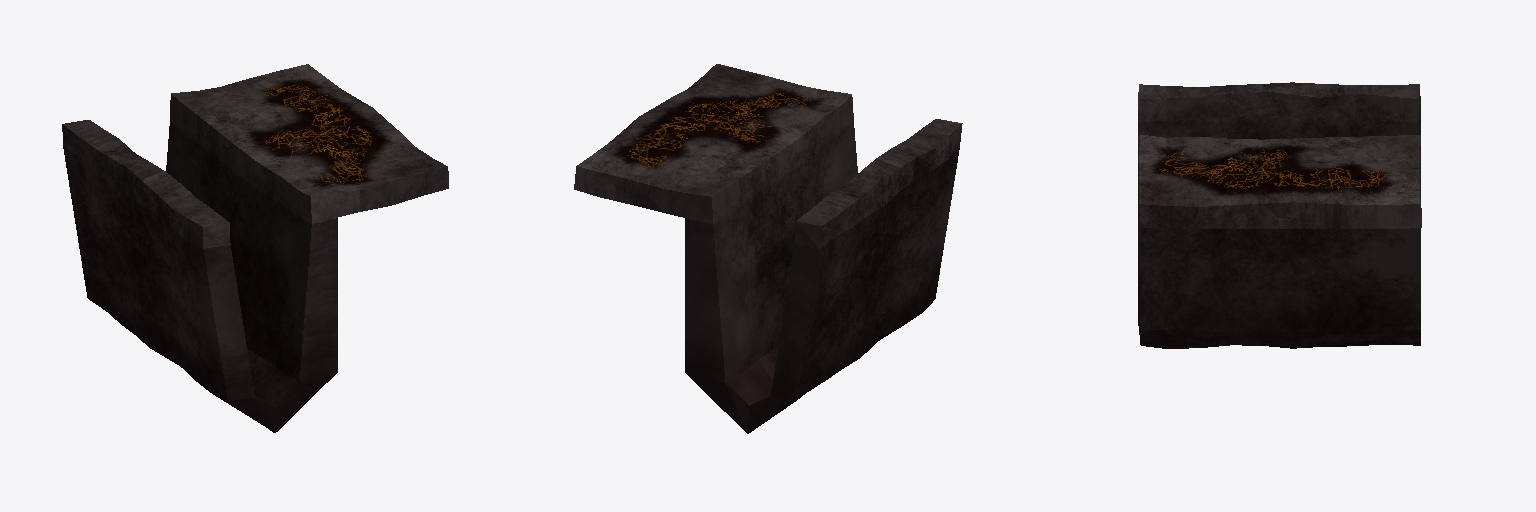
3 renders of one model, left to right at view 1: azimuth 30°, elevation 25°; view 2: azimuth 150°, elevation 25°; view 3: azimuth 270°, elevation 25°, orthographic.
Visible parts, largest first — view 1: BaseChasm; view 2: BaseChasm; view 3: BaseChasm.
Boxes of the visible parts, <box> form: BaseChasm: <box>62,64,448,432</box>; BaseChasm: <box>574,64,962,433</box>; BaseChasm: <box>1138,82,1421,348</box>.
Bounding box in the file's own units: 58.28 × 52.11 × 57.51.
Materials: 1 (1 with a texture image).